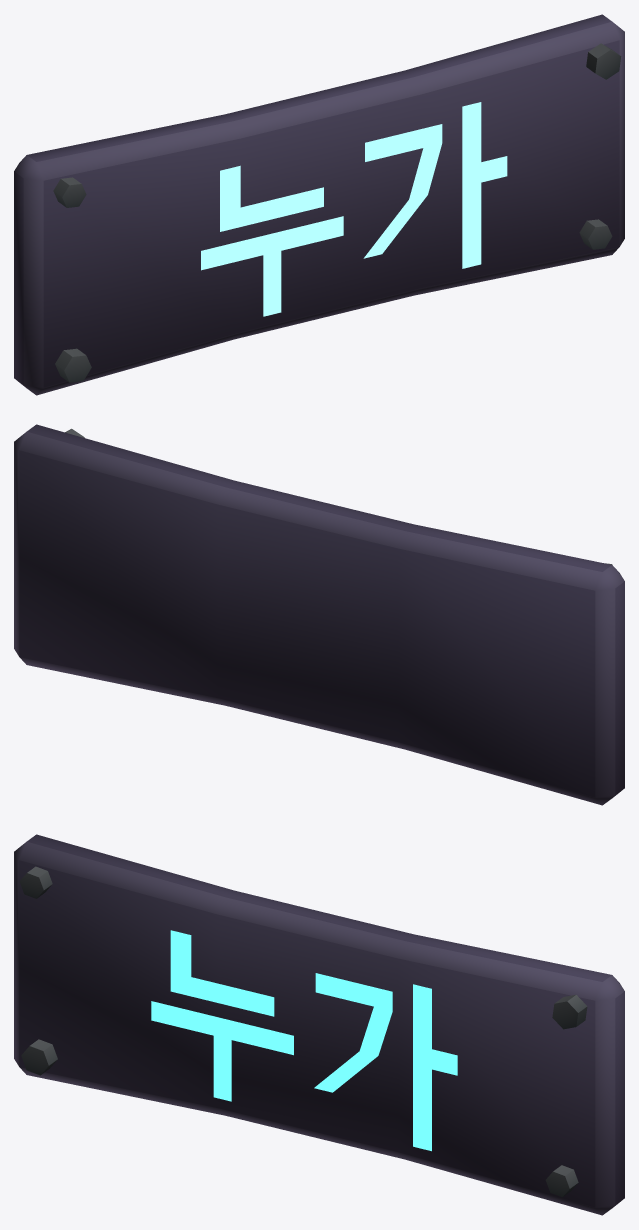
Rendered from tab1.fbx.
3 views of the same model, one above another, from view 1: azimuth 30°, elevation 25°; view 2: azimuth 150°, elevation 25°; view 3: azimuth 330°, elevation 25° (orthographic).
Visible parts, largest first — view 1: Cube.006; view 2: Cube.006; view 3: Cube.006.
Boxes of the visible parts, x1,y1,x2,y2 form: Cube.006: (14, 14, 624, 395); Cube.006: (14, 424, 624, 805); Cube.006: (14, 834, 624, 1215).
Bounding box in the file's own units: 878 × 326 × 93.42.
